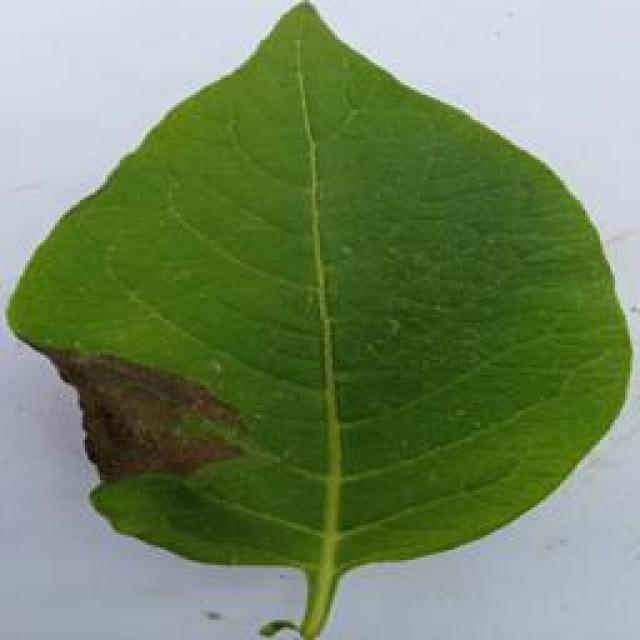Potato_Late_Blight: (5, 0, 623, 628)
